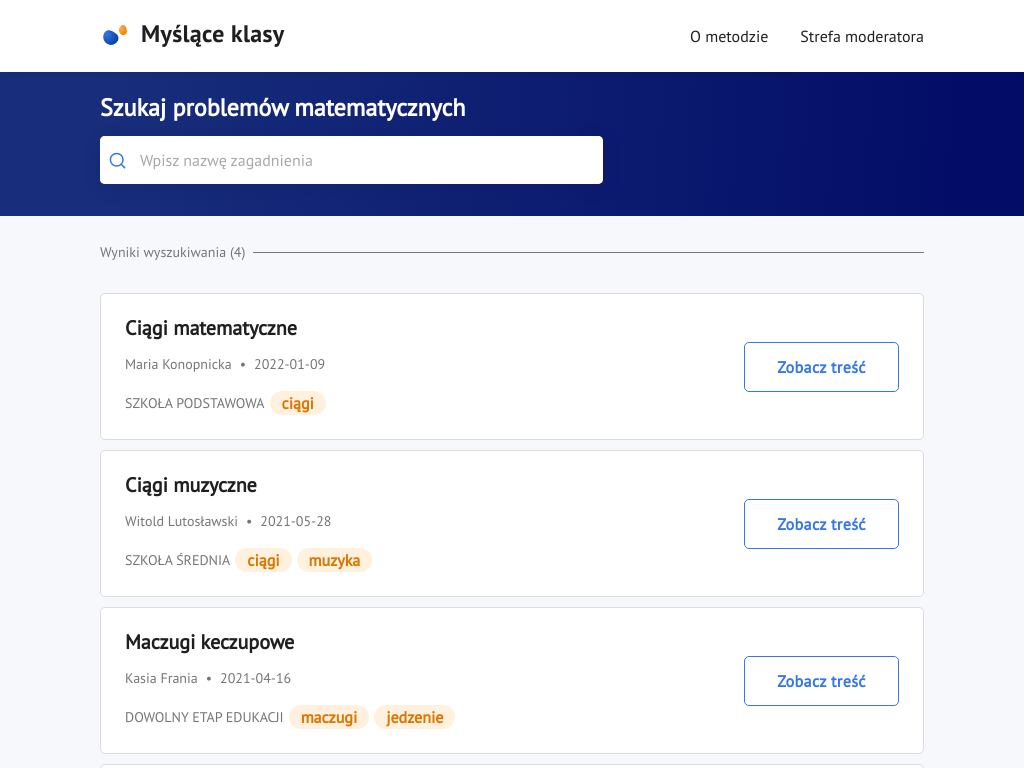
Scenario: Login Page › displays error message when inputted email didn't pass client-side validation
This screenshot has width=1024, height=768.
Click the link "Strefa moderatora": point(862, 36) [800,26,924,46]
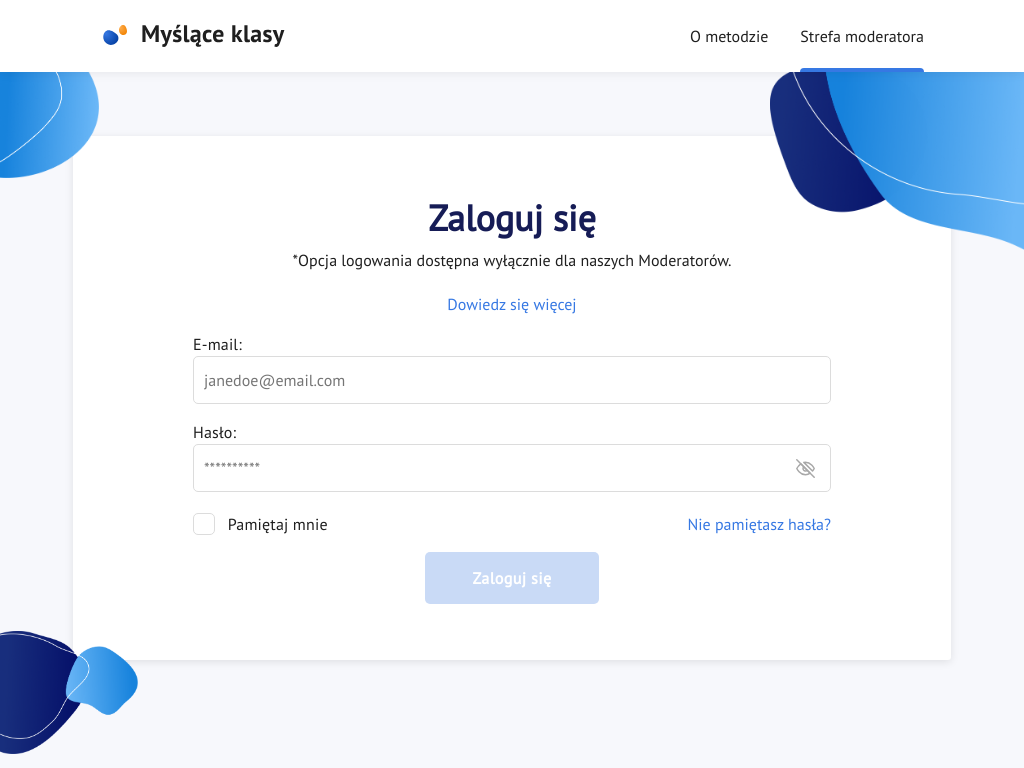
In the field named "email": point(512, 380) [193,356,831,404], type "test"
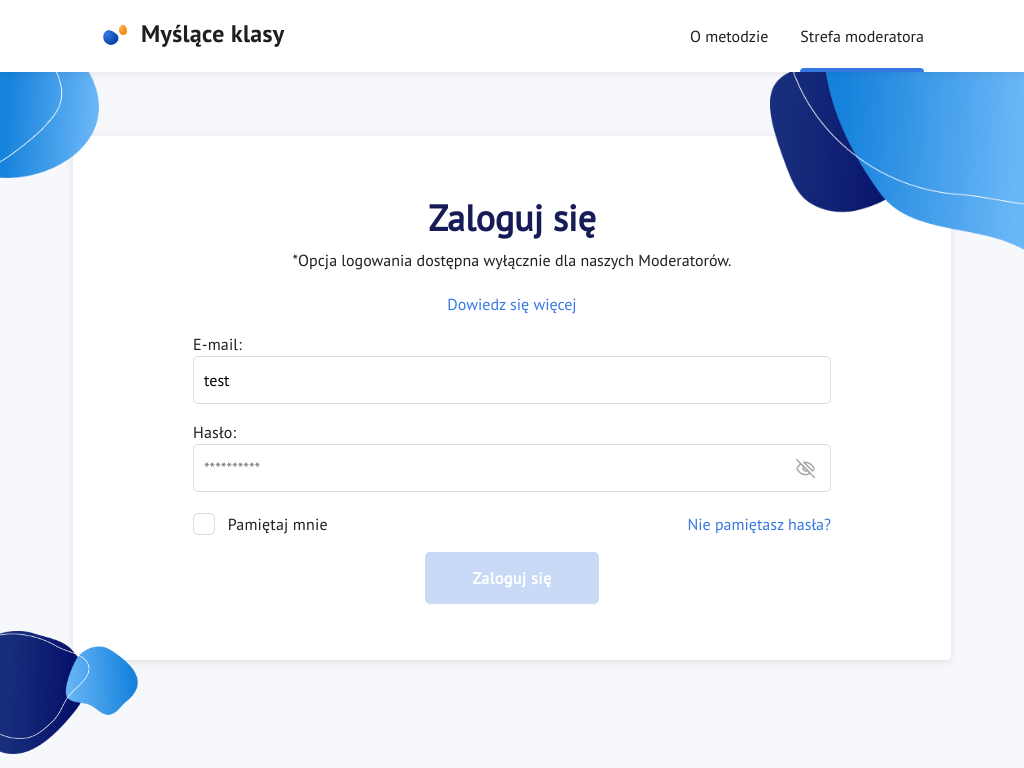
In the password field named "password": point(512, 468) [193,444,831,492], type "123"
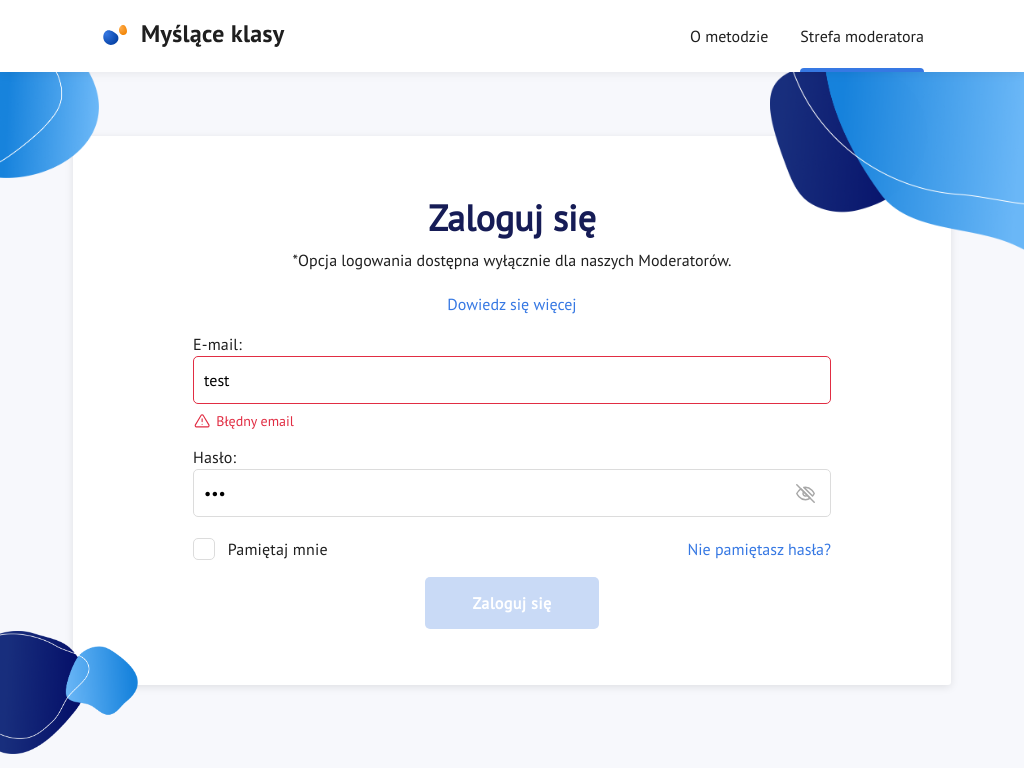
Expected: the text "Błędny email" is shown, [193,412,294,430]
